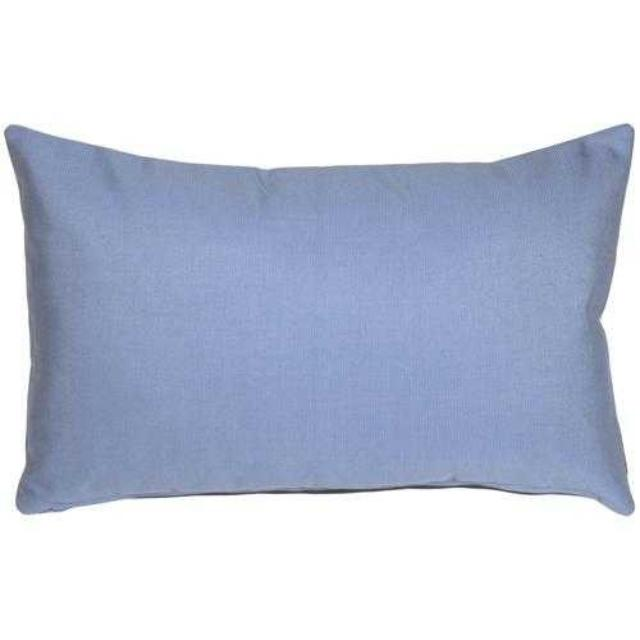pillow: (2, 119, 636, 517)
